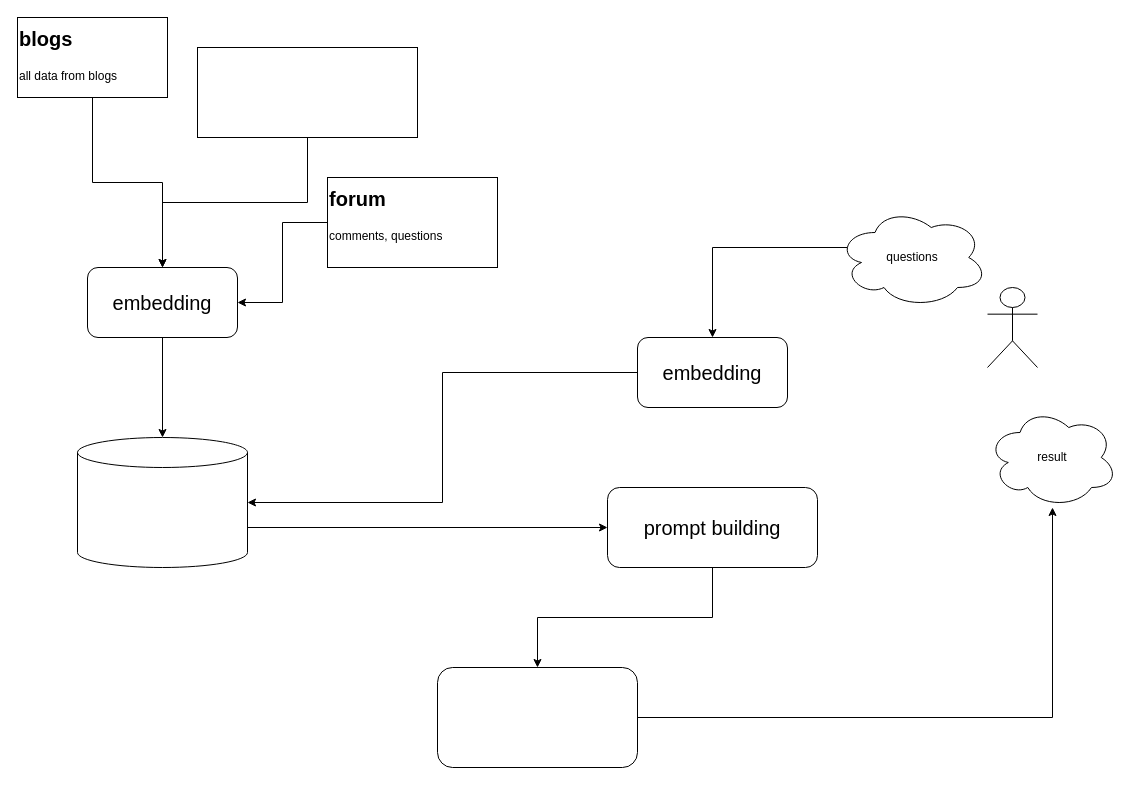
Some shapes in this 1135 by 785 pixel diagram are drawn without their labels. The centre of each missing label's shape, as x and y in pixels:
Actor: the point at 1012,327
documentation pages official doc on various aspects: the point at 307,92
knowledge base: the point at 162,502
LLM (e.g. OpenAI): the point at 537,717
